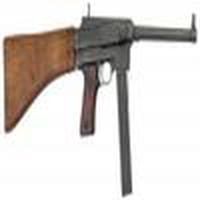gun: (1, 14, 196, 132)
